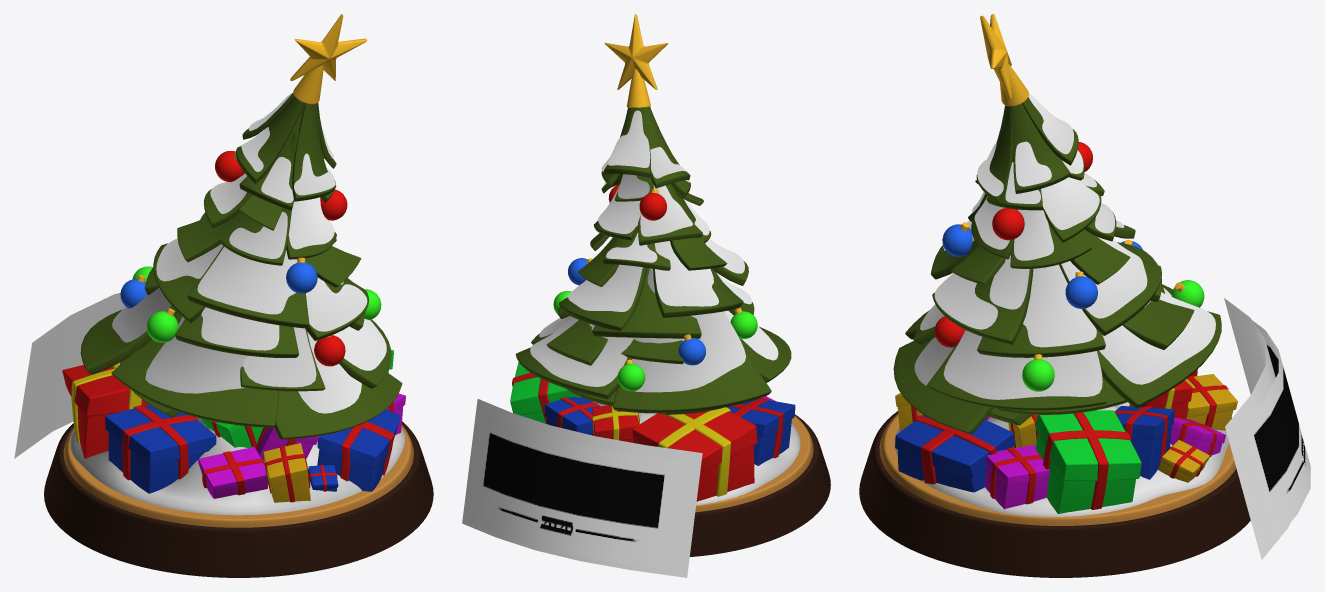
The model's file is Xmas.fbx.
3 renders of one model, left to right at view 1: azimuth 30°, elevation 25°; view 2: azimuth 150°, elevation 25°; view 3: azimuth 270°, elevation 25°, orthographic. The views are drawn at different scales.
Visible parts, largest first — view 1: SM_XmasTree_01, SM_Shade_01; view 2: SM_XmasTree_01, SM_Text_01, SM_Shade_01; view 3: SM_XmasTree_01, SM_Text_01, SM_Shade_01.
Part boxes in pixels (x1,y1,x2,y2): SM_XmasTree_01: [44, 14, 433, 577]; SM_Shade_01: [14, 292, 125, 458]; SM_XmasTree_01: [510, 14, 830, 556]; SM_Text_01: [471, 414, 679, 569]; SM_Shade_01: [462, 399, 702, 577]; SM_XmasTree_01: [859, 14, 1250, 577]; SM_Text_01: [1243, 320, 1310, 540]; SM_Shade_01: [1224, 298, 1289, 559].
Size of the model in its own units: 197 by 276 by 220.
